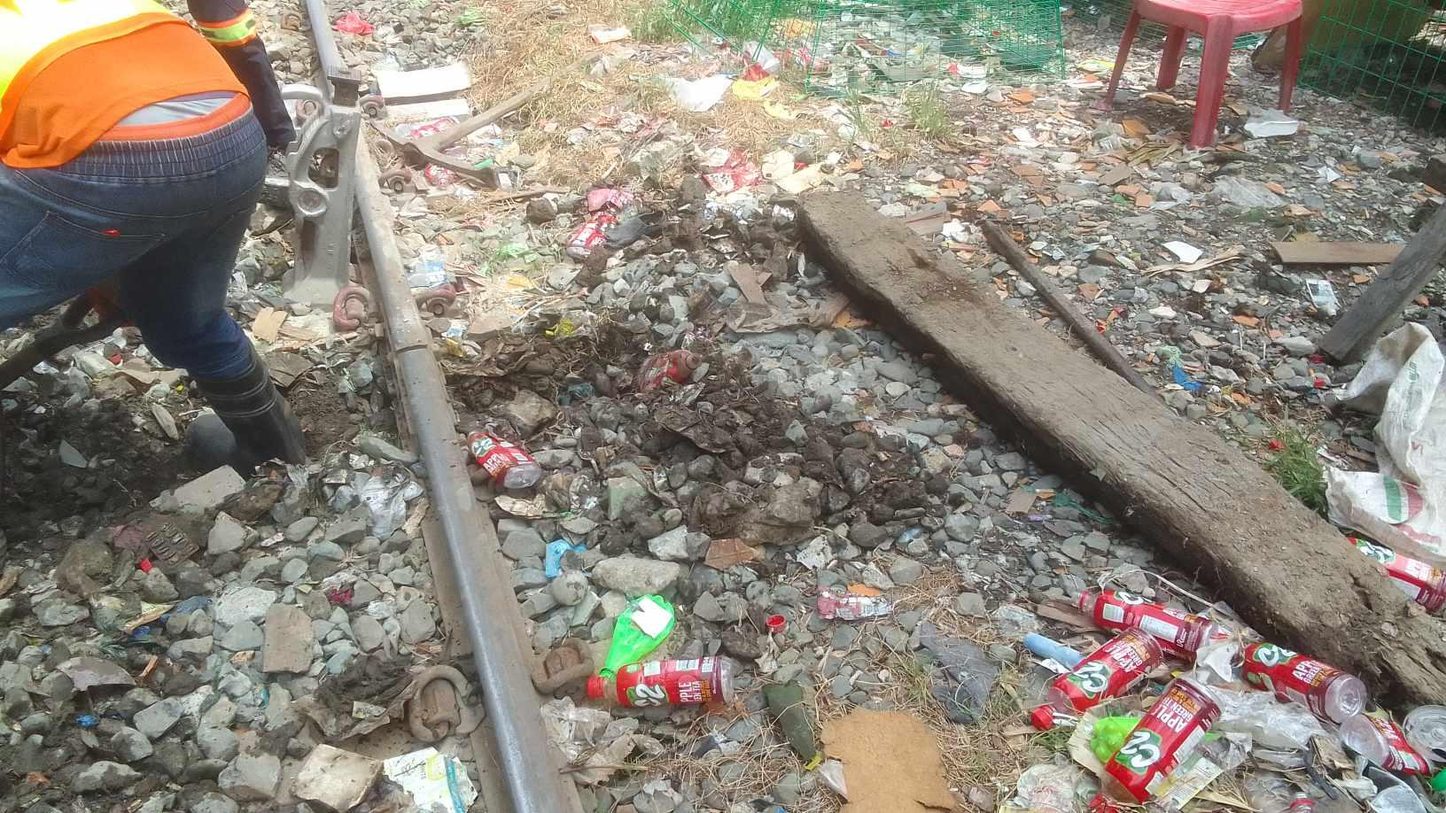railway-gap: (367, 310, 456, 382)
